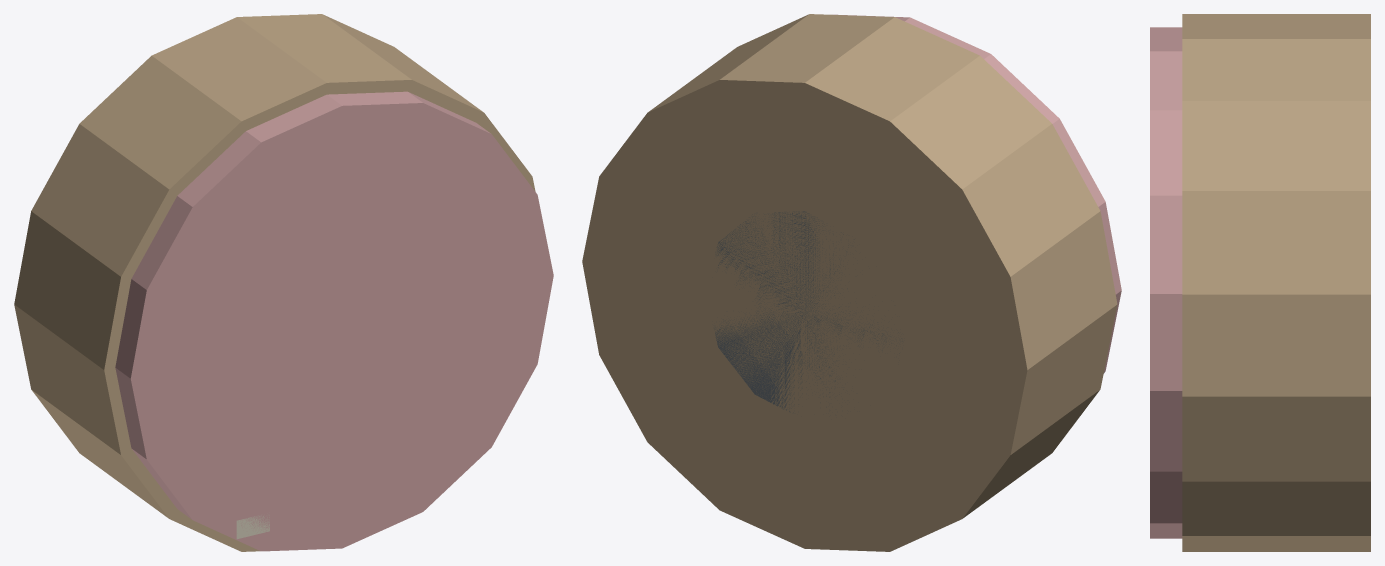
File: donut.glb
The picture shows the model from 3 angles, left to right: view 1: azimuth 30°, elevation 25°; view 2: azimuth 150°, elevation 25°; view 3: azimuth 270°, elevation 25°; orthographic projection. The views are drawn at different scales.
Parts seen in each view (by area): view 1: 02_icing, 00_donut; view 2: 00_donut, 01_donut_hole, 02_icing; view 3: 00_donut, 02_icing.
Part boxes in pixels (x1,y1,x2,y2): 02_icing: (115,91,553,551); 00_donut: (14,14,535,551); 00_donut: (582,14,1117,551); 01_donut_hole: (714,211,902,412); 02_icing: (833,14,1121,373); 00_donut: (1182,14,1370,551); 02_icing: (1150,27,1182,538).
Size of the model in its own units: 0.2 by 0.2 by 0.082.
